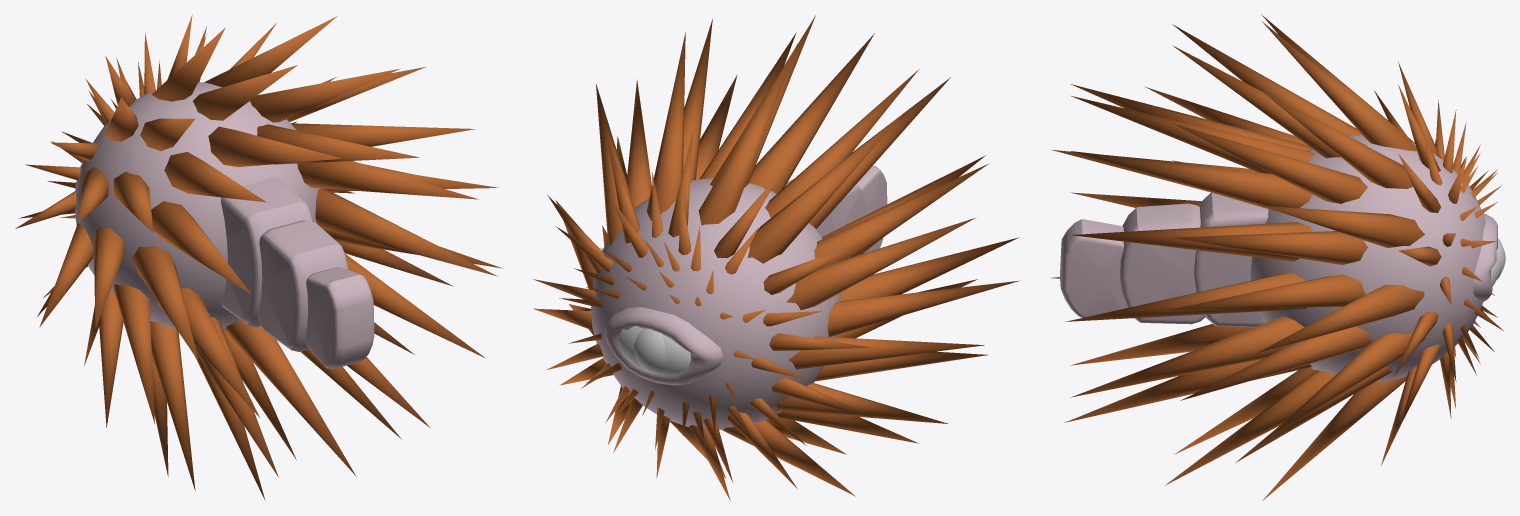
The model's file is FishAnim3.fbx.
The picture shows the model from 3 angles, left to right: view 1: azimuth 30°, elevation 25°; view 2: azimuth 150°, elevation 25°; view 3: azimuth 270°, elevation 25°; orthographic projection.
Parts seen in each view (by area): view 1: pCone39 (×13), SeaUrchinEnemy, pCone40 (×11), fin2, fin1, fin3, pCone77, pCone74, pCone78, pCone80, pCone70, pCone71 (+7 smaller); view 2: SeaUrchinEnemy, pCone40 (×8), pCone39 (×9), pCone41 (×10), pTorus1, pCone80, pCone71, pCone69, pCone79, pSphere2, pCone78, pSphere3 (+6 smaller); view 3: pCone39 (×10), pCone40 (×8), SeaUrchinEnemy, fin2, fin3, pCone41 (×7), pCone79, fin1, pCone76, pCone78, pCone77, pCone75 (+7 smaller).
Part boxes in pixels (x1,y1,x2,y2): pCone39 (×13): (94,65,502,500); SeaUrchinEnemy: (75,82,320,329); pCone40 (×11): (39,16,453,476); fin2: (257,220,348,351); fin1: (221,177,312,326); fin3: (305,267,374,369); pCone77: (315,188,497,276); pCone74: (224,320,356,476); pCone78: (297,161,478,199); pCone80: (208,126,341,166); pCone70: (151,201,250,293); pCone71: (131,245,198,361); SeaUrchinEnemy: (591,178,840,429); pCone40 (×8): (596,32,984,496); pCone39 (×9): (626,15,1019,454); pCone41 (×10): (533,132,873,501); pTorus1: (604,307,723,385); pCone80: (748,33,874,193); pCone71: (840,237,1019,301); pCone69: (809,77,950,228); pCone79: (699,32,796,179); pSphere2: (618,326,691,375); pCone78: (696,74,737,179); pSphere3: (634,328,665,374); pCone39 (×10): (1145,24,1371,485); pCone40 (×8): (1235,14,1426,500); SeaUrchinEnemy: (1250,134,1485,381); fin2: (1119,203,1205,324); fin3: (1060,219,1126,317); pCone41 (×7): (1381,62,1441,465); pCone79: (1070,151,1312,212); fin1: (1194,192,1268,327); pCone76: (1070,316,1304,397); pCone78: (1070,222,1312,261); pCone77: (1065,272,1306,321); pCone75: (1065,359,1312,422).
Size of the model in its own units: 5.27 by 5.28 by 4.88.
